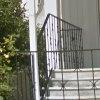stairs: (42, 65, 100, 100)
